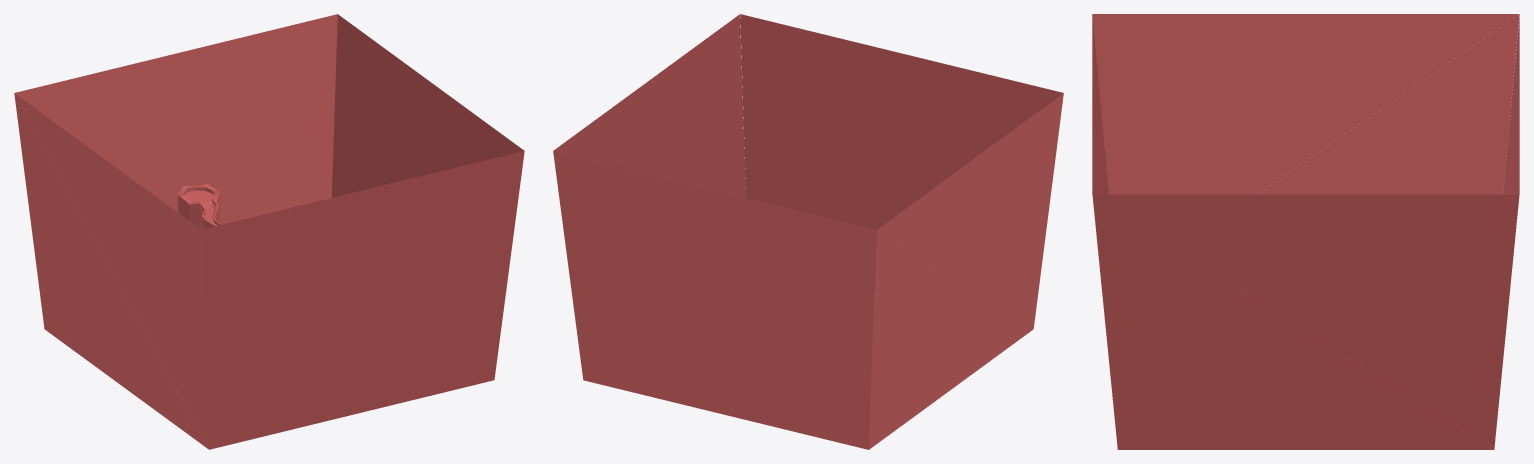
File: ex_w_map.glb
3 views of the same model, side by side, from view 1: azimuth 30°, elevation 25°; view 2: azimuth 150°, elevation 25°; view 3: azimuth 270°, elevation 25° (orthographic). The views are drawn at different scales.
Parts seen in each view (by area): view 1: ex_w_map_col; view 2: ex_w_map_col; view 3: ex_w_map_col.
Part boxes in pixels (x1,y1,x2,y2): ex_w_map_col: [14, 14, 524, 449]; ex_w_map_col: [553, 14, 1063, 449]; ex_w_map_col: [1092, 14, 1519, 449].
Bounding box in the file's own units: 32.01 × 22.12 × 32.02.
